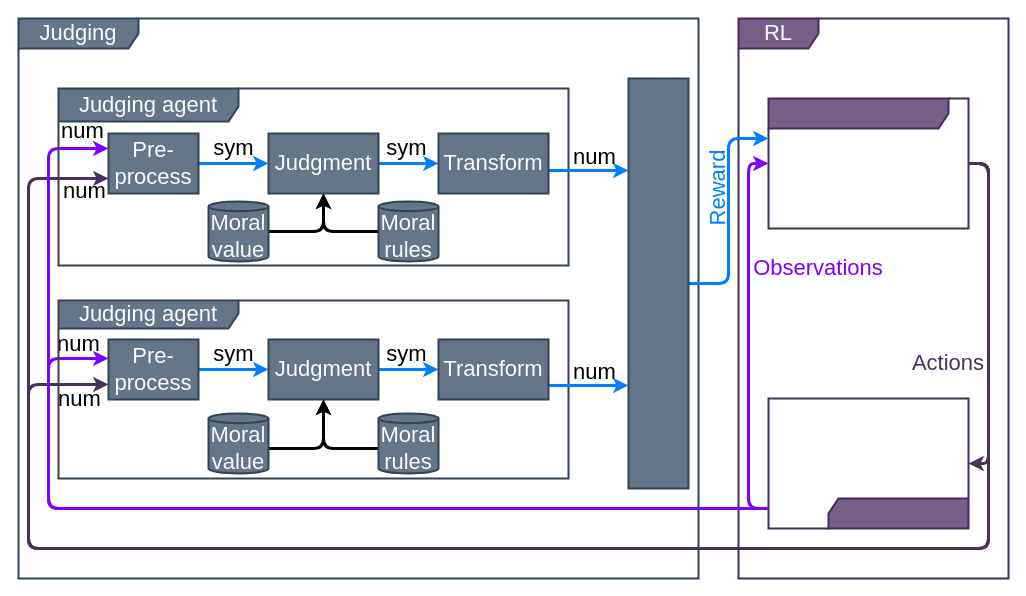
Some shapes in this 1026 by 596 pixel diagram are drawn without their labels. Here are the shapes that lost their labels. From the top down, the centre of each, then its label:
(868,163): Learning agent
(658,283): Aggregation
(868,463): Environment
